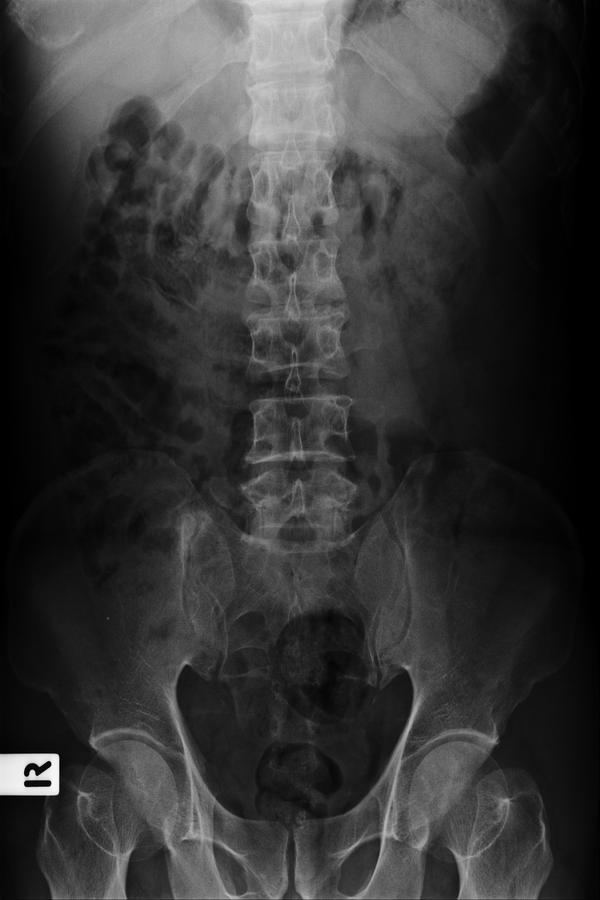lumbar scoliosis: (232, 8, 385, 585)
